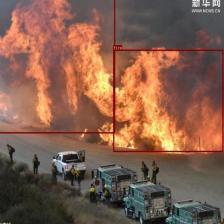fire: (0, 0, 115, 133), (113, 49, 223, 152)
